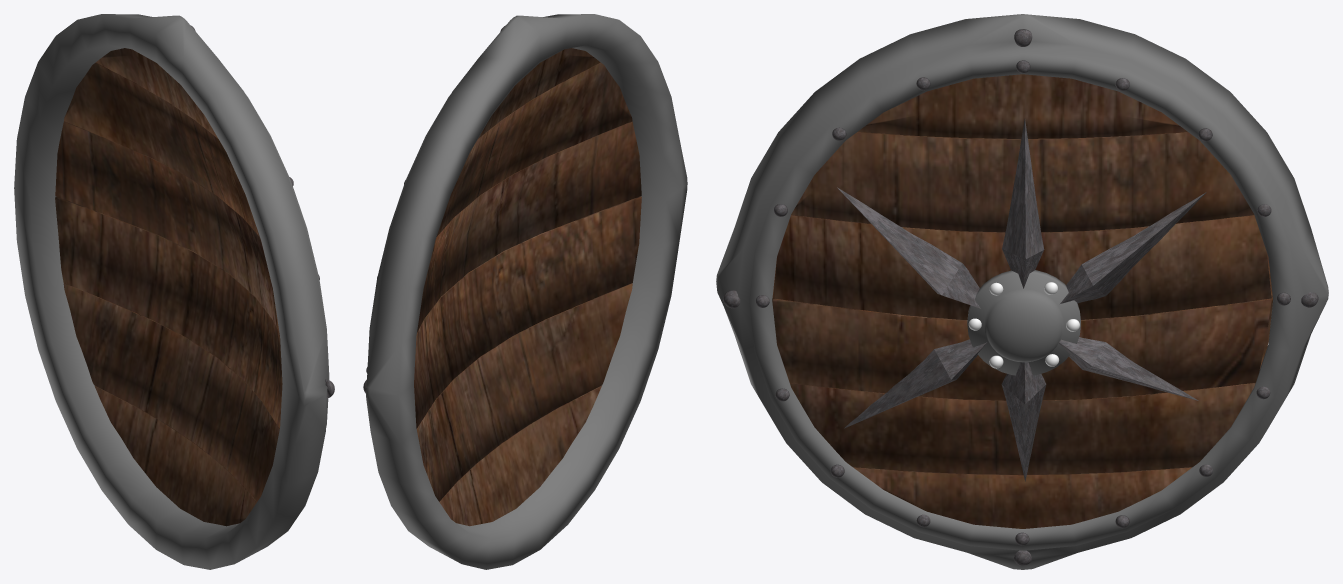
File: Escudo.glb
The picture shows the model from 3 angles, left to right: view 1: azimuth 30°, elevation 25°; view 2: azimuth 150°, elevation 25°; view 3: azimuth 270°, elevation 25°; orthographic projection. The views are drawn at different scales.
Parts seen in each view (by area): view 1: Cube, Cylinder; view 2: Cube, Cylinder; view 3: Cube, Cylinder, Cube.001, Cube.006, Cube.003, Cube.002, Cube.007, Cube.004, Cube.005.
Boxes of the visible parts, x1=… form: Cube: x1=55, y1=48, x2=282, y2=526; Cylinder: x1=14, y1=14, x2=329, y2=569; Cube: x1=414, y1=48, x2=641, y2=526; Cylinder: x1=366, y1=14, x2=687, y2=569; Cube: x1=772, y1=74, x2=1272, y2=528; Cylinder: x1=716, y1=14, x2=1328, y2=569; Cube.001: x1=967, y1=270, x2=1080, y2=375; Cube.006: x1=837, y1=187, x2=980, y2=308; Cube.003: x1=1060, y1=192, x2=1206, y2=303; Cube.002: x1=1002, y1=118, x2=1044, y2=288; Cube.007: x1=844, y1=339, x2=986, y2=428; Cube.004: x1=1001, y1=362, x2=1046, y2=481; Cube.005: x1=1059, y1=337, x2=1198, y2=400.
Bounding box in the file's own units: 0.8809 × 4.31 × 4.31.
Materials: 4 (2 with a texture image).
